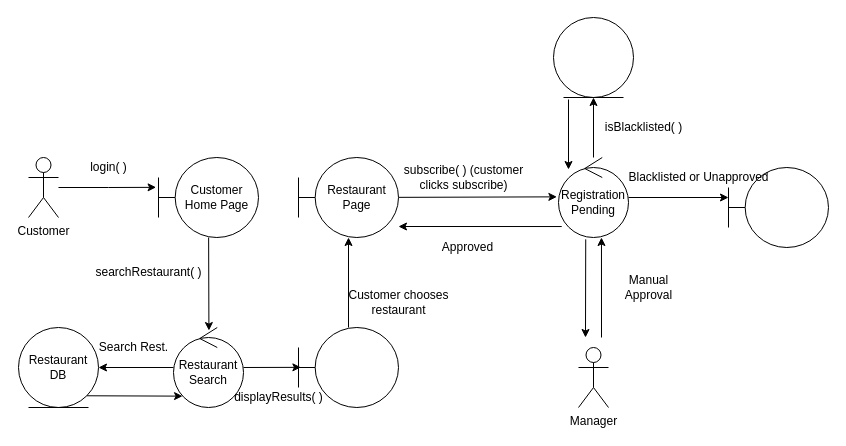
This 846x446 diagram has some shape labels left out. The shapes that lost their labels are listed below. From the top down, each one's centre as x and y in pixels, then its label:
(593,57): Customer DB
(778,207): Unable to Register
(348,367): Search Results
